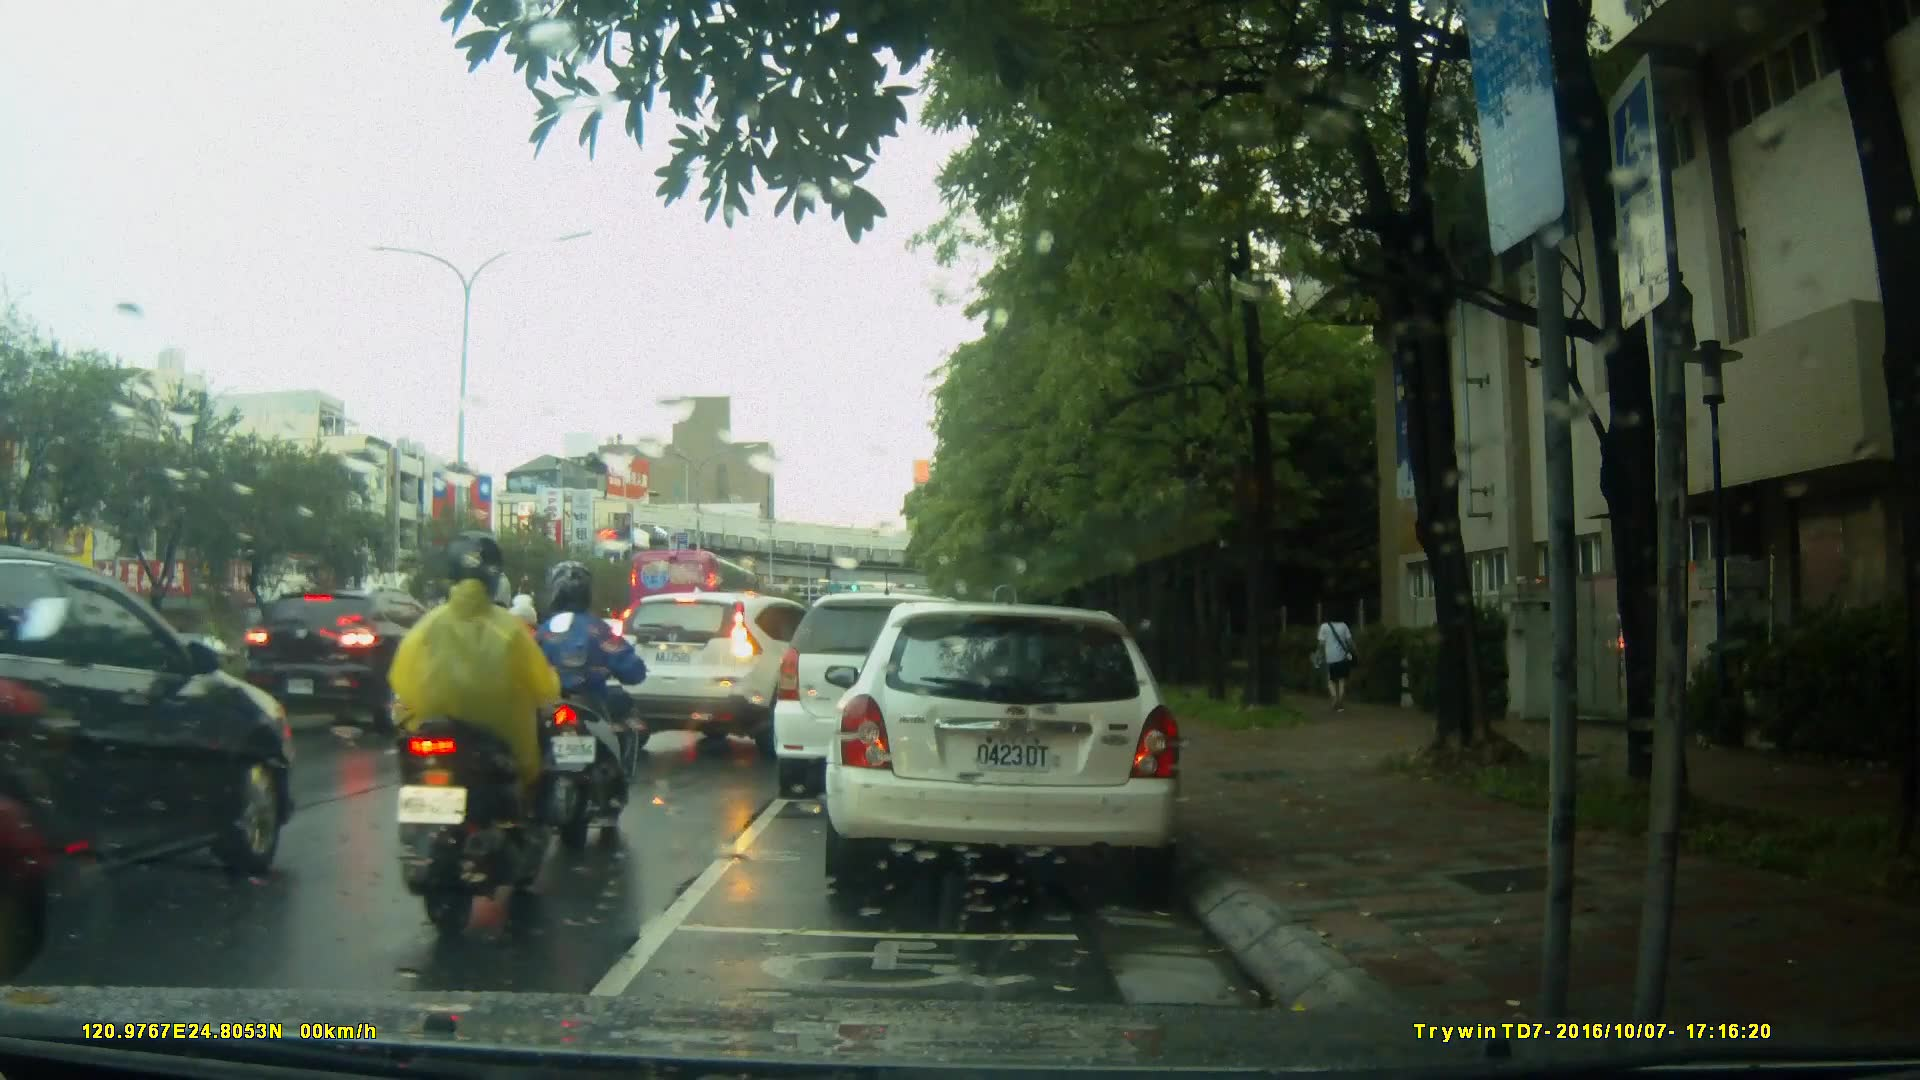pedestrian: (1305, 597, 1363, 726)
rider: (390, 538, 565, 934), (521, 562, 651, 846)
vehicle: (1, 545, 285, 935), (835, 594, 1194, 898), (776, 590, 1026, 784), (599, 587, 864, 764), (229, 578, 456, 740), (628, 547, 761, 638)
